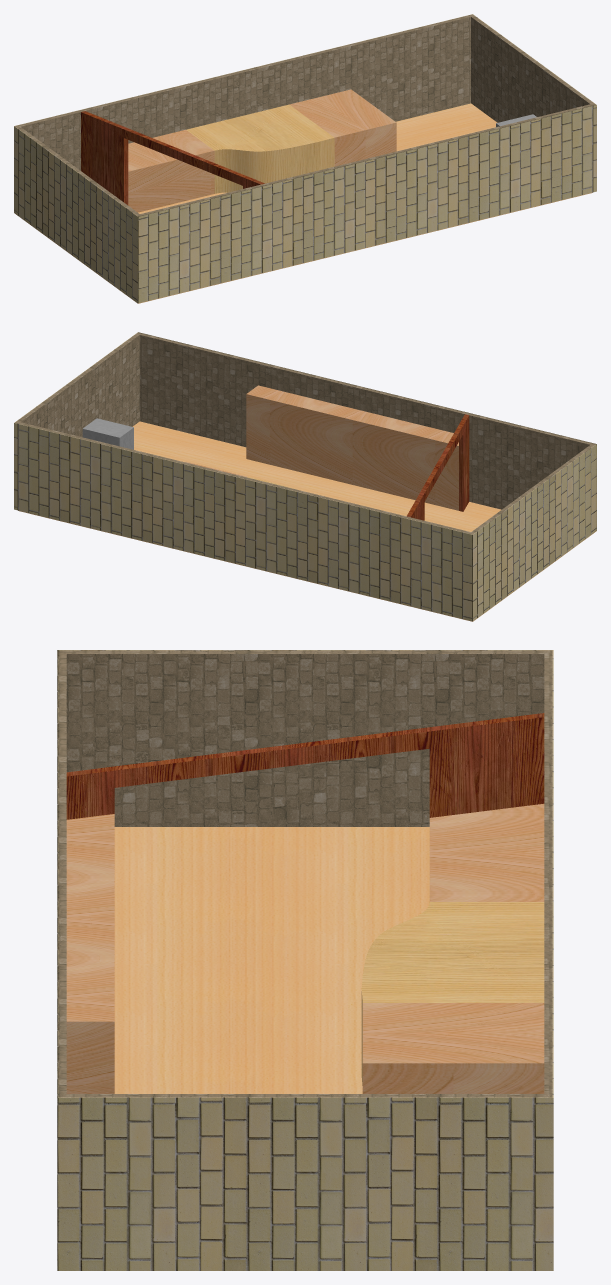
File: sim_env.DAE
The picture shows the model from 3 angles, top to bottom: view 1: azimuth 30°, elevation 25°; view 2: azimuth 150°, elevation 25°; view 3: azimuth 270°, elevation 25°; orthographic projection. The views are drawn at different scales.
Visible parts, largest first — view 1: stitch_result_stitchFBXASC032all_ncl1_1-Pivot, stitch_result_stitchFBXASC032all_ncl1_2-Pivot, stitch_result_stitchFBXASC032all_ncl1_4-Pivot, stitch_result_stitchFBXASC032all_ncl1_3-Pivot, stitch_result_stitchFBXASC032all_ncl1_7-Pivot, stitch_result_stitchFBXASC032all_ncl1_5-Pivot, stitch_result_stitchFBXASC032all-Pivot; view 2: stitch_result_stitchFBXASC032all_ncl1_1-Pivot, stitch_result_stitchFBXASC032all_ncl1_2-Pivot, stitch_result_stitchFBXASC032all_ncl1_6-Pivot, stitch_result_stitchFBXASC032all-Pivot, stitch_result_stitchFBXASC032all_ncl1_7-Pivot, stitch_result_stitchFBXASC032all_ncl1_8-Pivot; view 3: stitch_result_stitchFBXASC032all_ncl1_1-Pivot, stitch_result_stitchFBXASC032all-Pivot, stitch_result_stitchFBXASC032all_ncl1_2-Pivot, stitch_result_stitchFBXASC032all_ncl1_7-Pivot, stitch_result_stitchFBXASC032all_ncl1_4-Pivot, stitch_result_stitchFBXASC032all_ncl1_5-Pivot, stitch_result_stitchFBXASC032all_ncl1_6-Pivot, stitch_result_stitchFBXASC032all_ncl1_3-Pivot.
Part boxes in pixels (bbox=[...]): stitch_result_stitchFBXASC032all_ncl1_1-Pivot: bbox=[14, 14, 596, 303]; stitch_result_stitchFBXASC032all_ncl1_2-Pivot: bbox=[15, 14, 595, 216]; stitch_result_stitchFBXASC032all_ncl1_4-Pivot: bbox=[186, 104, 334, 193]; stitch_result_stitchFBXASC032all_ncl1_3-Pivot: bbox=[128, 129, 214, 212]; stitch_result_stitchFBXASC032all_ncl1_7-Pivot: bbox=[81, 111, 264, 205]; stitch_result_stitchFBXASC032all_ncl1_5-Pivot: bbox=[289, 89, 396, 166]; stitch_result_stitchFBXASC032all-Pivot: bbox=[14, 103, 592, 303]; stitch_result_stitchFBXASC032all_ncl1_1-Pivot: bbox=[14, 332, 596, 621]; stitch_result_stitchFBXASC032all_ncl1_2-Pivot: bbox=[15, 332, 595, 534]; stitch_result_stitchFBXASC032all_ncl1_6-Pivot: bbox=[246, 385, 458, 510]; stitch_result_stitchFBXASC032all-Pivot: bbox=[18, 421, 596, 621]; stitch_result_stitchFBXASC032all_ncl1_7-Pivot: bbox=[407, 414, 469, 520]; stitch_result_stitchFBXASC032all_ncl1_8-Pivot: bbox=[82, 418, 133, 449]; stitch_result_stitchFBXASC032all_ncl1_1-Pivot: bbox=[57, 650, 553, 1270]; stitch_result_stitchFBXASC032all-Pivot: bbox=[114, 827, 429, 1093]; stitch_result_stitchFBXASC032all_ncl1_2-Pivot: bbox=[58, 650, 552, 1097]; stitch_result_stitchFBXASC032all_ncl1_7-Pivot: bbox=[66, 713, 544, 819]; stitch_result_stitchFBXASC032all_ncl1_4-Pivot: bbox=[361, 902, 544, 1085]; stitch_result_stitchFBXASC032all_ncl1_5-Pivot: bbox=[362, 1003, 544, 1093]; stitch_result_stitchFBXASC032all_ncl1_6-Pivot: bbox=[66, 814, 114, 1093]; stitch_result_stitchFBXASC032all_ncl1_3-Pivot: bbox=[429, 803, 544, 901].
Bounding box in the file's own units: 55.5 × 26 × 10.05.
7 materials, 7 textured.
